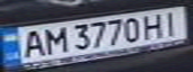0: (121, 15, 145, 43)
3: (69, 20, 90, 51)
7: (87, 18, 109, 48), (106, 16, 127, 46)
A: (15, 28, 48, 60)
H: (139, 11, 169, 39)
I: (157, 9, 184, 37)
M: (39, 25, 69, 55)
